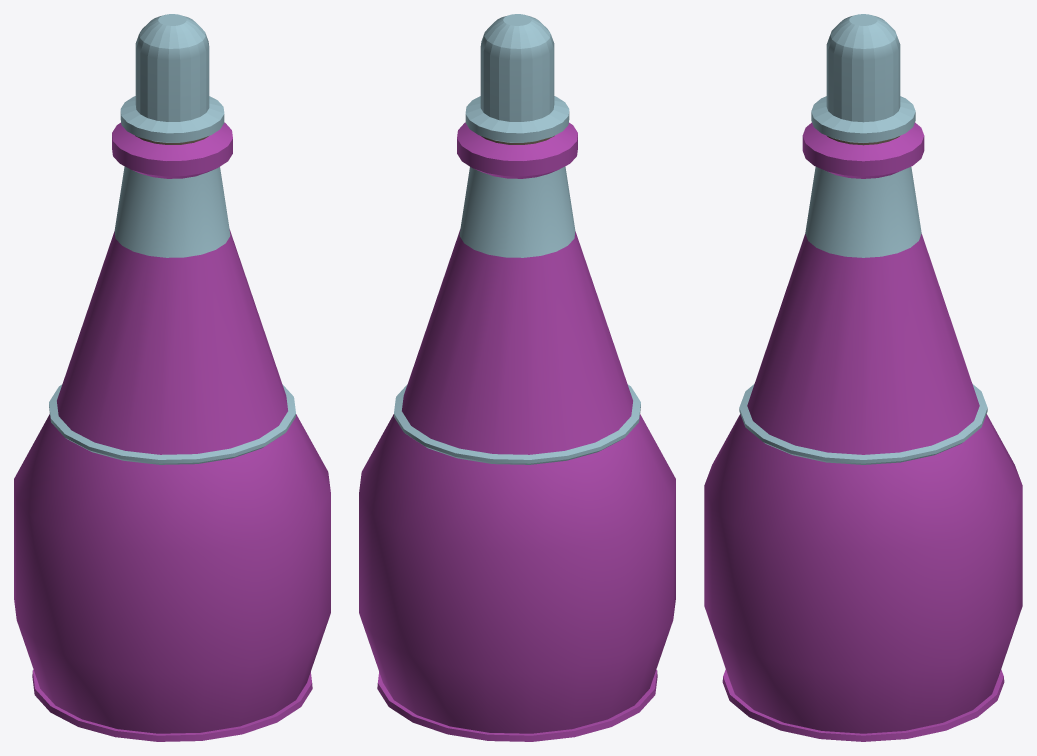
The model's file is Potion.fbx.
The picture shows the model from 3 angles, left to right: view 1: azimuth 30°, elevation 25°; view 2: azimuth 150°, elevation 25°; view 3: azimuth 270°, elevation 25°; orthographic projection.
Visible parts, largest first — view 1: pCylinder1; view 2: pCylinder1; view 3: pCylinder1.
Boxes of the visible parts, <box> form: pCylinder1: <box>14,14,330,741</box>; pCylinder1: <box>359,14,675,741</box>; pCylinder1: <box>704,14,1022,741</box>.
Bounding box in the file's own units: 2.4 × 5.52 × 2.4.
